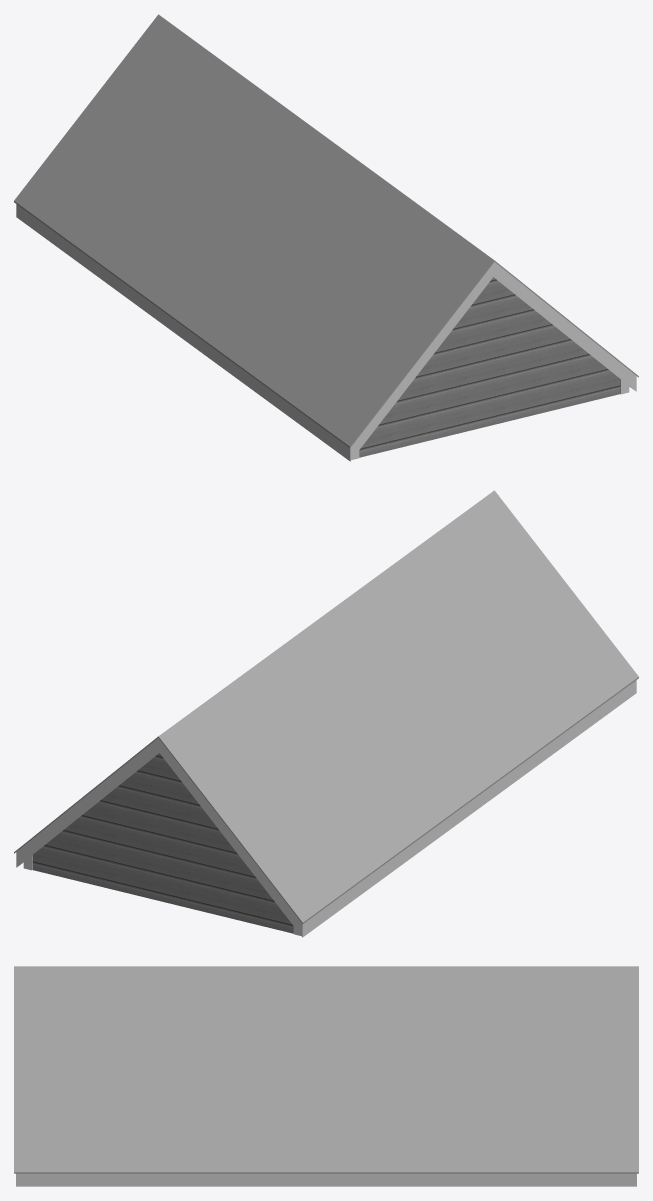
Rendered from gable.glb.
3 renders of one model, top to bottom at view 1: azimuth 30°, elevation 25°; view 2: azimuth 150°, elevation 25°; view 3: azimuth 270°, elevation 25°, orthographic. The views are drawn at different scales.
Parts seen in each view (by area): view 1: Roof_Top_2, Roof_exterior, Roof_Siding_2; view 2: Roof_Top_2, Roof_exterior, Roof_Siding_2; view 3: Roof_Top_2, Roof_Siding_2.
Part boxes in pixels (x1,y1,x2,y2): Roof_Top_2: (14, 14, 638, 447); Roof_exterior: (359, 277, 620, 457); Roof_Siding_2: (16, 204, 636, 461); Roof_Top_2: (14, 490, 638, 923); Roof_exterior: (32, 753, 293, 933); Roof_Siding_2: (16, 680, 636, 937); Roof_Top_2: (14, 966, 638, 1173); Roof_Siding_2: (16, 1173, 636, 1186).
Size of the model in its own units: 3.84 by 2.15 by 7.75.
7 materials, 4 textured.
